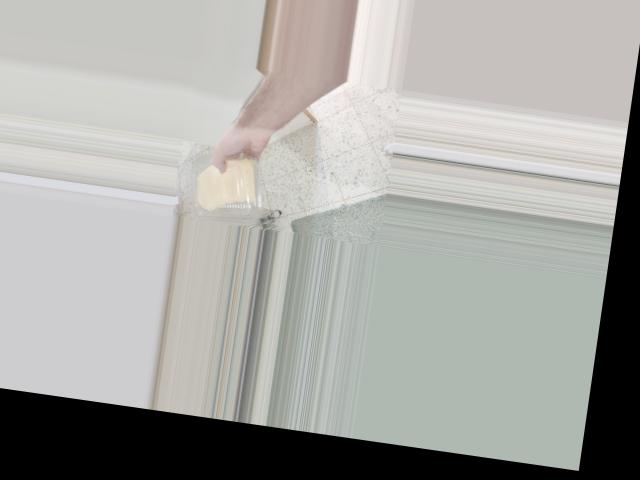cheese: (189, 149, 267, 222)
